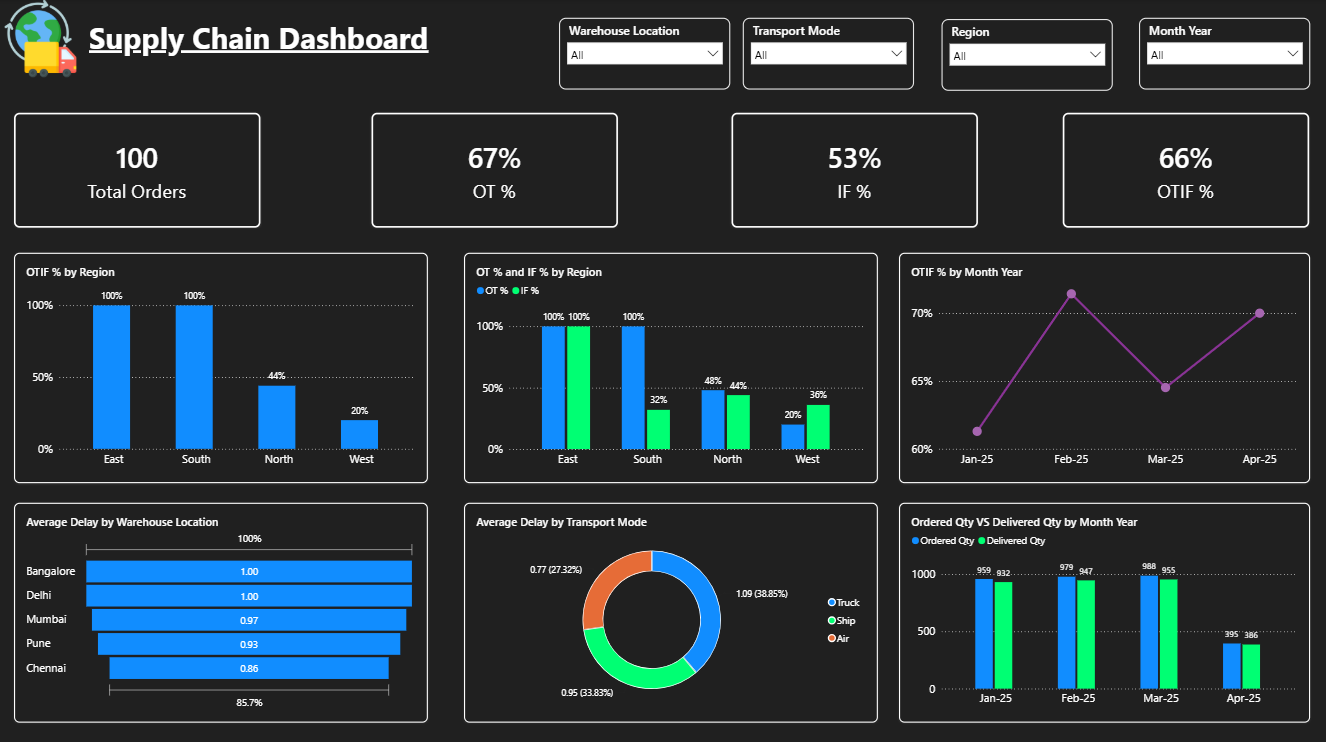

Layout of this report page (visuals, bound fields, positions):
{"tool":"powerbi","page":{"name":"Page 1","canvas":[1920,1080],"ordinal":0},"visuals":[{"type":"card","fields":{"Values":["Measure.Total Orders"]},"box":[21.6,164.5,357.1,166.6],"z":0},{"type":"card","fields":{"Values":["Measure.OT %"]},"box":[538.9,164.5,357.1,166.6],"z":1000},{"type":"card","fields":{"Values":["Measure.IF %"]},"box":[1060.4,164.5,357.1,166.6],"z":2000},{"type":"card","fields":{"Values":["Measure.OTIF %"]},"box":[1540.9,164.5,357.1,166.6],"z":3000},{"type":"columnChart","fields":{"Category":["FACT_SCM.Region"],"Y":["Measure.OTIF %"]},"box":[21.6,367.9,599.5,333.3],"z":4000},{"type":"clusteredColumnChart","fields":{"Category":["FACT_SCM.Region"],"Y":["Measure.OT %","Measure.IF %"]},"box":[673,367.9,599.5,333.3],"z":5000},{"type":"lineChart","fields":{"Category":["Date_Table.Month Year"],"Y":["Measure.OTIF %"]},"box":[1302.8,367.9,595.1,333.3],"z":6000},{"type":"funnel","fields":{"Category":["DIM_MATERIAL.Warehouse Location"],"Y":["Measure.Average Delay"]},"box":[21.6,729.3,599.5,318.1],"z":7000},{"type":"donutChart","title":"Average Delay by Transport Mode","fields":{"Category":["FACT_SCM.TransportMode"],"Y":["Measure.Average Delay"]},"box":[673,729.3,599.5,318.1],"z":8000},{"type":"clusteredColumnChart","title":"Ordered Qty VS Delivered Qty by Month Year","fields":{"Category":["Date_Table.Month Year"],"Y":["Sum(FACT_SCM.OrderedQty)","Sum(FACT_SCM.DeliveredQty)"]},"box":[1302.8,729.3,595.1,318.1],"z":9000},{"type":"slicer","fields":{"Values":["Date_Table.Month Year"]},"box":[1649.9,26.7,248.3,104.1],"z":10000},{"type":"slicer","fields":{"Values":["FACT_SCM.Region"]},"box":[1364.2,29.4,248.3,104.1],"z":11000},{"type":"slicer","fields":{"Values":["FACT_SCM.TransportMode"]},"box":[1075.9,26.7,248.3,104.1],"z":12000},{"type":"slicer","fields":{"Values":["DIM_MATERIAL.Warehouse Location"]},"box":[811.6,26.7,248.3,104.1],"z":13000},{"type":"textbox","box":[130,25,518.4,117.3],"z":14000},{"type":"image","box":[0,0,120.1,114.8],"z":15000}]}

Visuals, with their boxes in screenshot pixels (x1, y1, x2, y2), scaled from the page's 1920x1080 canvas onto the 1326x742 screenshot:
card - Measure.Total Orders: <region>15, 113, 262, 227</region>
card - Measure.OT %: <region>372, 113, 619, 227</region>
card - Measure.IF %: <region>732, 113, 979, 227</region>
card - Measure.OTIF %: <region>1064, 113, 1311, 227</region>
columnChart - FACT_SCM.Region x Measure.OTIF %: <region>15, 253, 429, 482</region>
clusteredColumnChart - FACT_SCM.Region x Measure.OT %: <region>465, 253, 879, 482</region>
lineChart - Date_Table.Month Year x Measure.OTIF %: <region>900, 253, 1311, 482</region>
funnel - DIM_MATERIAL.Warehouse Location x Measure.Average Delay: <region>15, 501, 429, 720</region>
"Average Delay by Transport Mode" donutChart: <region>465, 501, 879, 720</region>
"Ordered Qty VS Delivered Qty by Month Year" clusteredColumnChart: <region>900, 501, 1311, 720</region>
slicer - Date_Table.Month Year: <region>1139, 18, 1311, 90</region>
slicer - FACT_SCM.Region: <region>942, 20, 1114, 92</region>
slicer - FACT_SCM.TransportMode: <region>743, 18, 915, 90</region>
slicer - DIM_MATERIAL.Warehouse Location: <region>561, 18, 732, 90</region>
textbox: <region>90, 17, 448, 98</region>
image: <region>0, 0, 83, 79</region>
